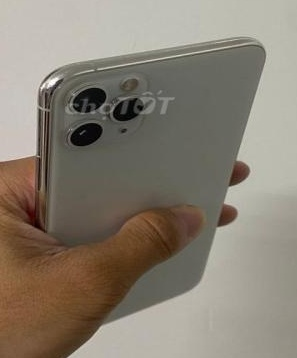scratch: (47, 69, 79, 88)
